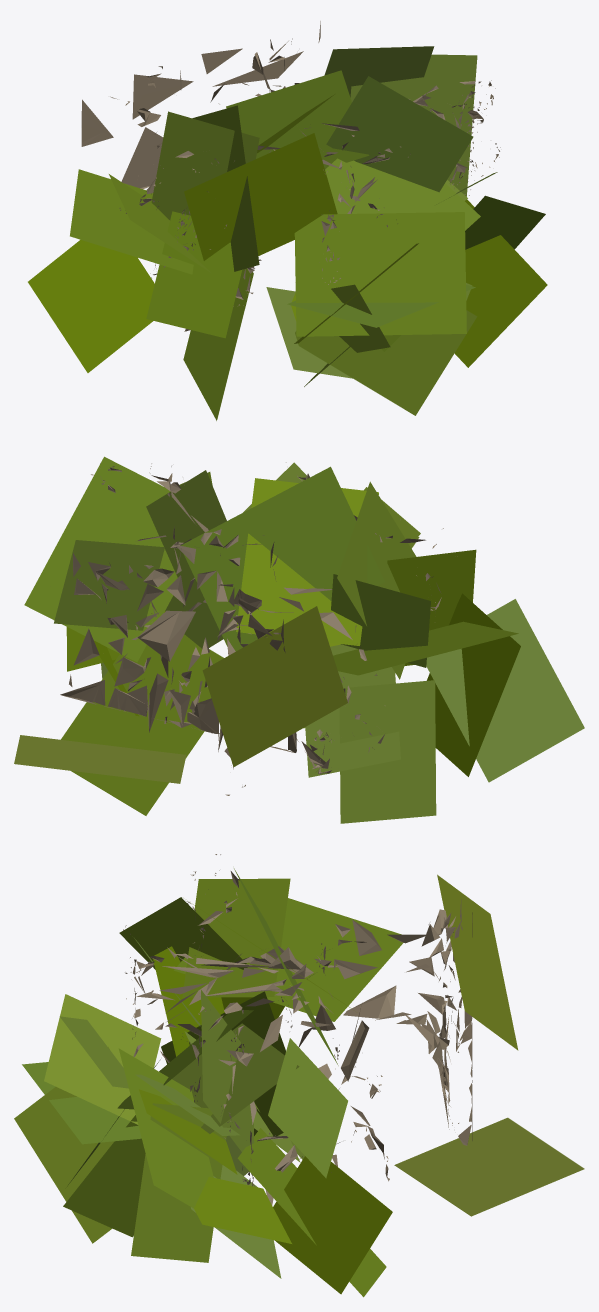
Rendered from shrub_ancient_a.glb.
3 views of the same model, one above another, from view 1: azimuth 30°, elevation 25°; view 2: azimuth 150°, elevation 25°; view 3: azimuth 270°, elevation 25° (orthographic). The views are drawn at different scales.
Visible parts, largest first — view 1: leaves, wood; view 2: leaves, wood; view 3: leaves, wood.
Part boxes in pixels (x1,y1,x2,y2): leaves: (28, 46, 547, 420); wood: (81, 21, 500, 331); leaves: (14, 456, 584, 823); wood: (60, 462, 457, 795); leaves: (14, 868, 584, 1297); wood: (123, 854, 472, 1205).
Bounding box in the file's own units: 3.19 × 1.86 × 2.81.
